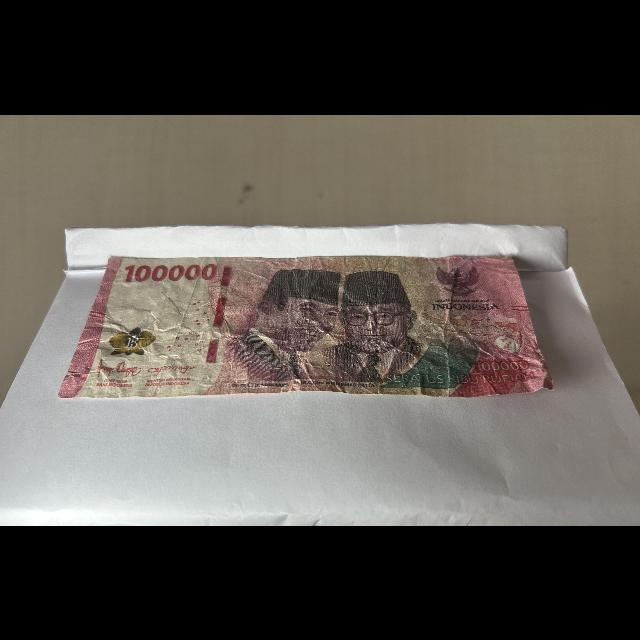Palsu-100k: (55, 251, 561, 400)
Tinta-Palsu-100k: (105, 325, 160, 356)
